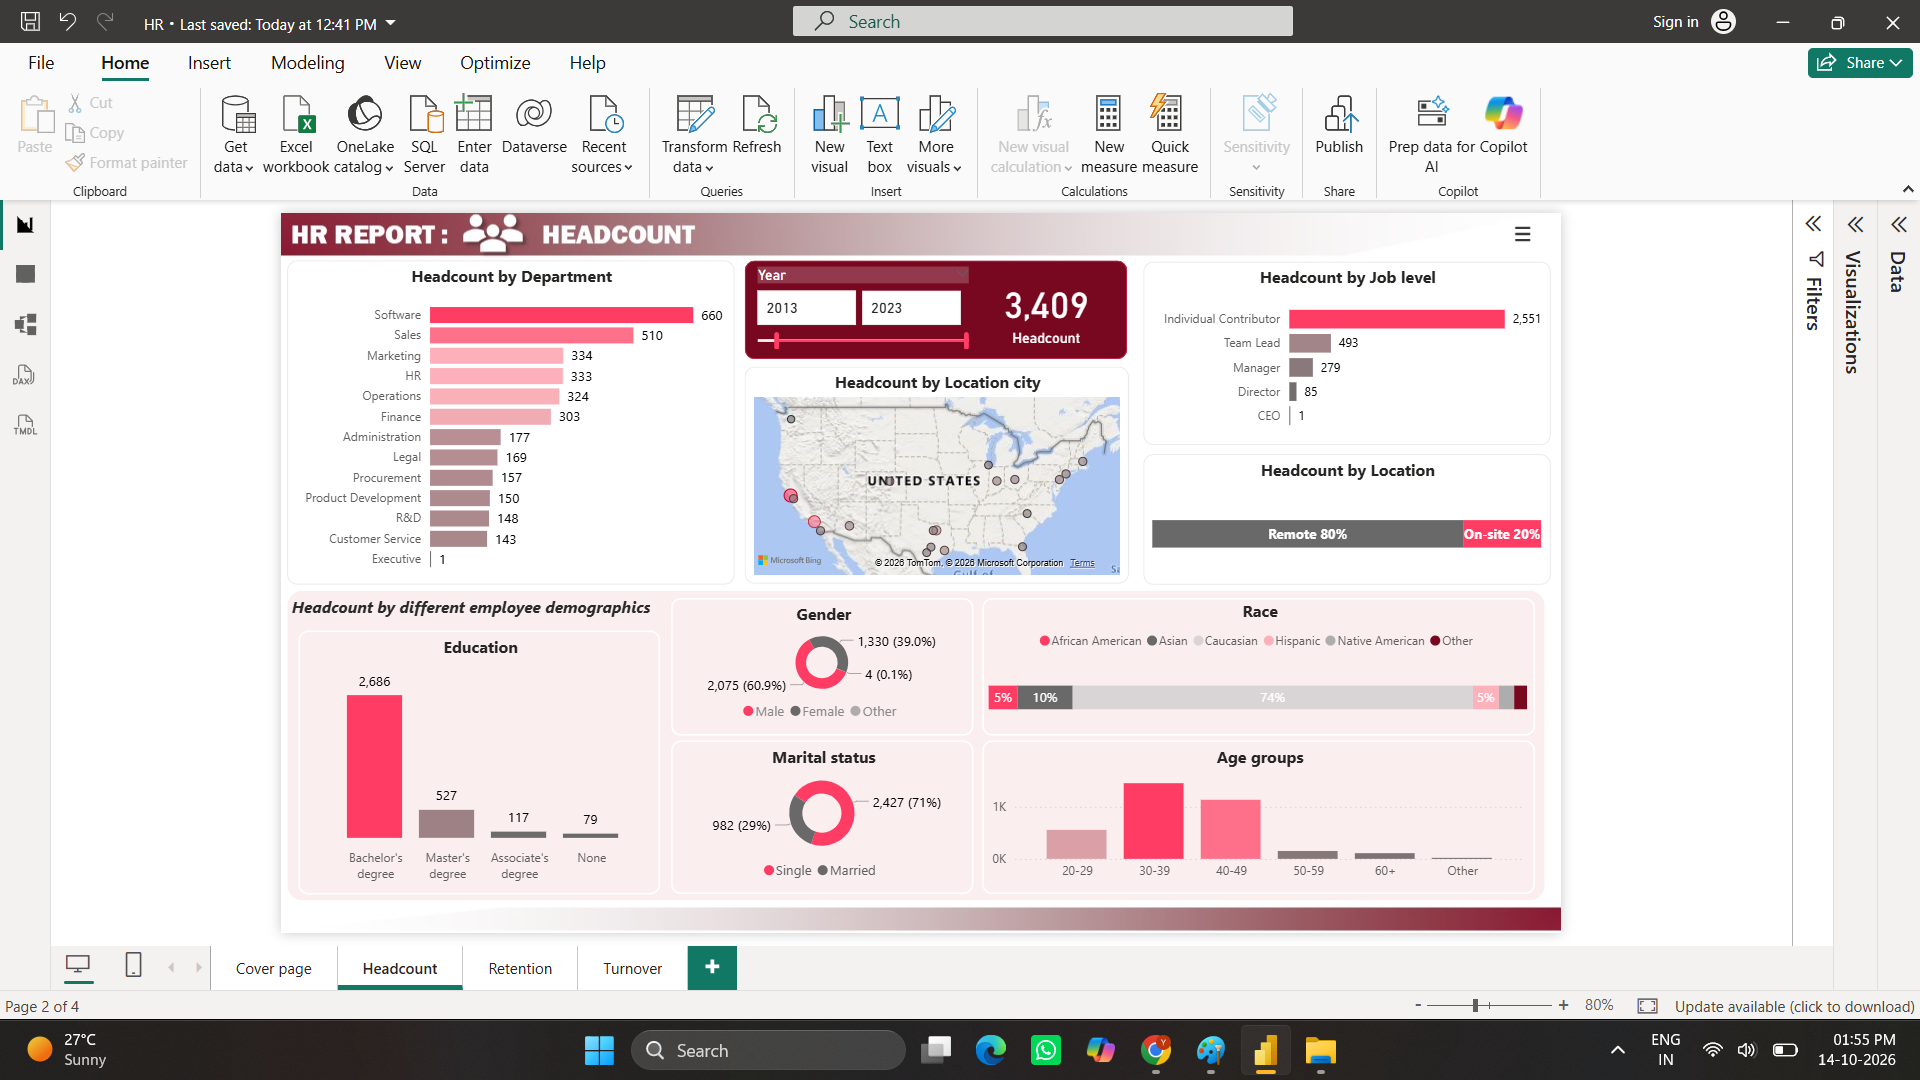

What the dashboard file says about the page in this screenshot:
{"tool":"powerbi","page":{"name":"Headcount","canvas":[1280,720],"ordinal":1},"visuals":[{"type":"shape","box":[463.8,47.5,382.5,98.8],"z":0},{"type":"shape","box":[6.7,377.5,1257.5,310],"z":1000},{"type":"card","fields":{"Values":["_measure.Headcount"]},"box":[701.2,55,128.8,85],"z":2000},{"type":"slicer","fields":{"Values":["_Dates (Big).Year"]},"box":[464.3,48.6,237.1,97.1],"z":3000},{"type":"clusteredBarChart","fields":{"Y":["_measure.Headcount"],"Category":["Department_table.Department"]},"box":[5.7,47.1,447.1,324.3],"z":4000},{"type":"clusteredBarChart","fields":{"Y":["_measure.Headcount"],"Category":["Job level_table.Job level"]},"box":[862.9,48.6,407.1,182.9],"z":5000},{"type":"hundredPercentStackedBarChart","fields":{"Y":["_measure.Headcount"],"Series":["Location_table.Location"]},"box":[862.9,241.4,407.1,130],"z":6000},{"type":"map","fields":{"Category":["Location_table.Location city"],"Size":["_measure.Headcount"]},"box":[464.3,154.3,384.3,217.1],"z":7000},{"type":"columnChart","title":"Age groups","fields":{"Y":["_measure.Headcount"],"Category":["Demographic_table.Age"]},"box":[701.2,527.5,552.5,153.8],"z":8000},{"type":"donutChart","title":"Gender","fields":{"Category":["Demographic_table.Gender"],"Y":["_measure.Headcount"]},"box":[390,385,302.5,137.5],"z":9000},{"type":"hundredPercentStackedBarChart","title":"Race","fields":{"Y":["_measure.Headcount"],"Series":["Demographic_table.Race"]},"box":[701.2,385,552.5,137.5],"z":10000},{"type":"columnChart","title":"Education","fields":{"Category":["Education_table.Education"],"Y":["_measure.Headcount"]},"box":[17.5,417.5,361.2,263.8],"z":11000},{"type":"actionButton","box":[1204,0,76,39.8],"z":11500},{"type":"donutChart","title":"Marital status","fields":{"Category":["Marital status_table.Marital status"],"Y":["_measure.Headcount"]},"box":[390,527.5,302.5,153.8],"z":12000}]}

Visuals, with their boxes on the page's 1280x720 design canvas (x1, y1, x2, y2). These are canvas units, not pixel positions in the 1920x1080 screenshot, which may show the page scaled, cropped or inside an application window:
shape: (464,48,846,146)
shape: (7,378,1264,688)
card - _measure.Headcount: (701,55,830,140)
slicer - _Dates (Big).Year: (464,49,701,146)
clusteredBarChart - _measure.Headcount x Department_table.Department: (6,47,453,371)
clusteredBarChart - _measure.Headcount x Job level_table.Job level: (863,49,1270,232)
hundredPercentStackedBarChart - _measure.Headcount x Location_table.Location: (863,241,1270,371)
map - Location_table.Location city x _measure.Headcount: (464,154,849,371)
"Age groups" columnChart: (701,528,1254,681)
"Gender" donutChart: (390,385,692,522)
"Race" hundredPercentStackedBarChart: (701,385,1254,522)
"Education" columnChart: (18,418,379,681)
actionButton: (1204,0,1280,40)
"Marital status" donutChart: (390,528,692,681)
